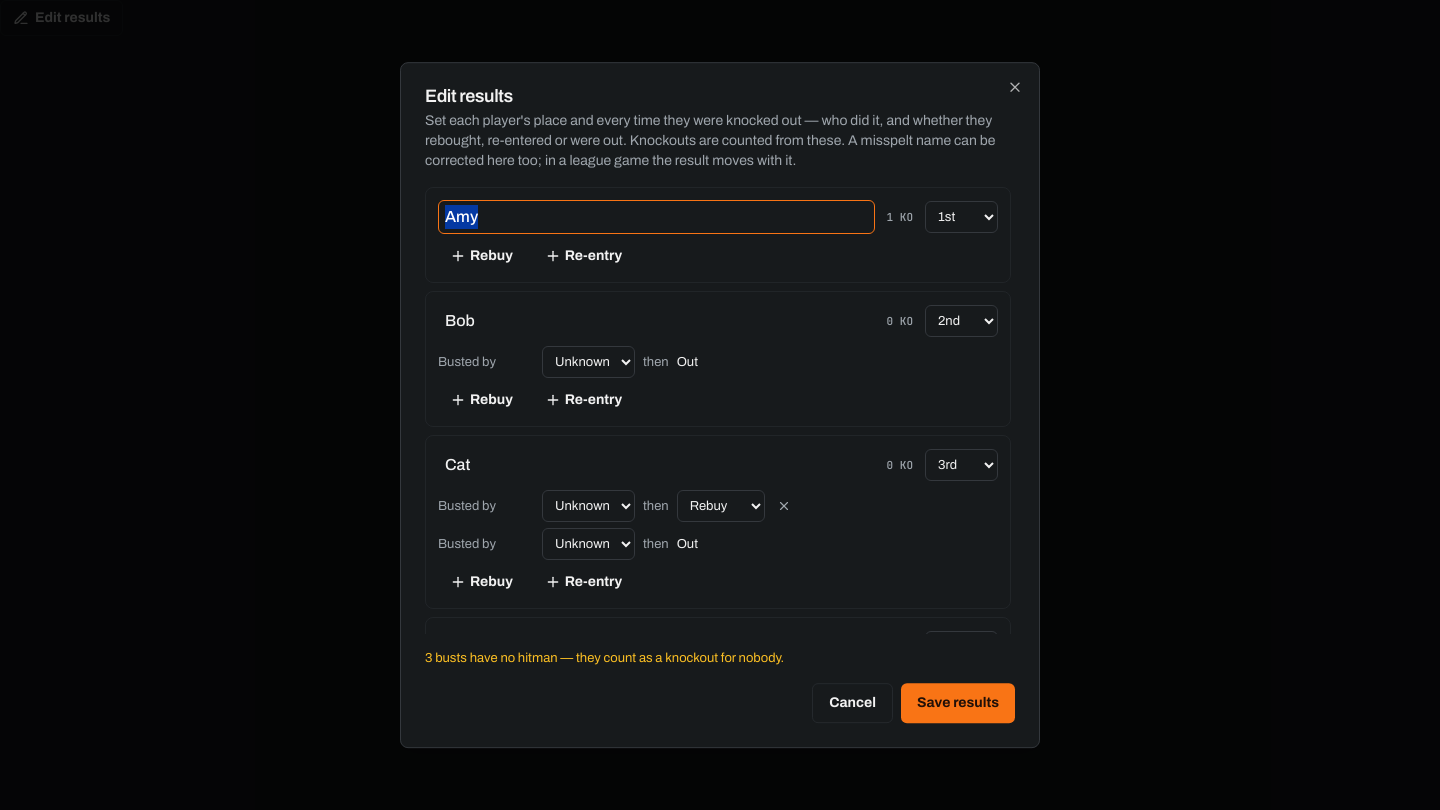
Test case: the results editor › will not save two players in one place, and saves the night once it is right
The image size is (1440, 810).
Earlier steps of the test are not shown.
Later steps or results of the test are not shown.
Step 1. Select "Bob" in the dropdown named "Cat bust 1 hitman" → (588,506), box [542, 490, 635, 522]
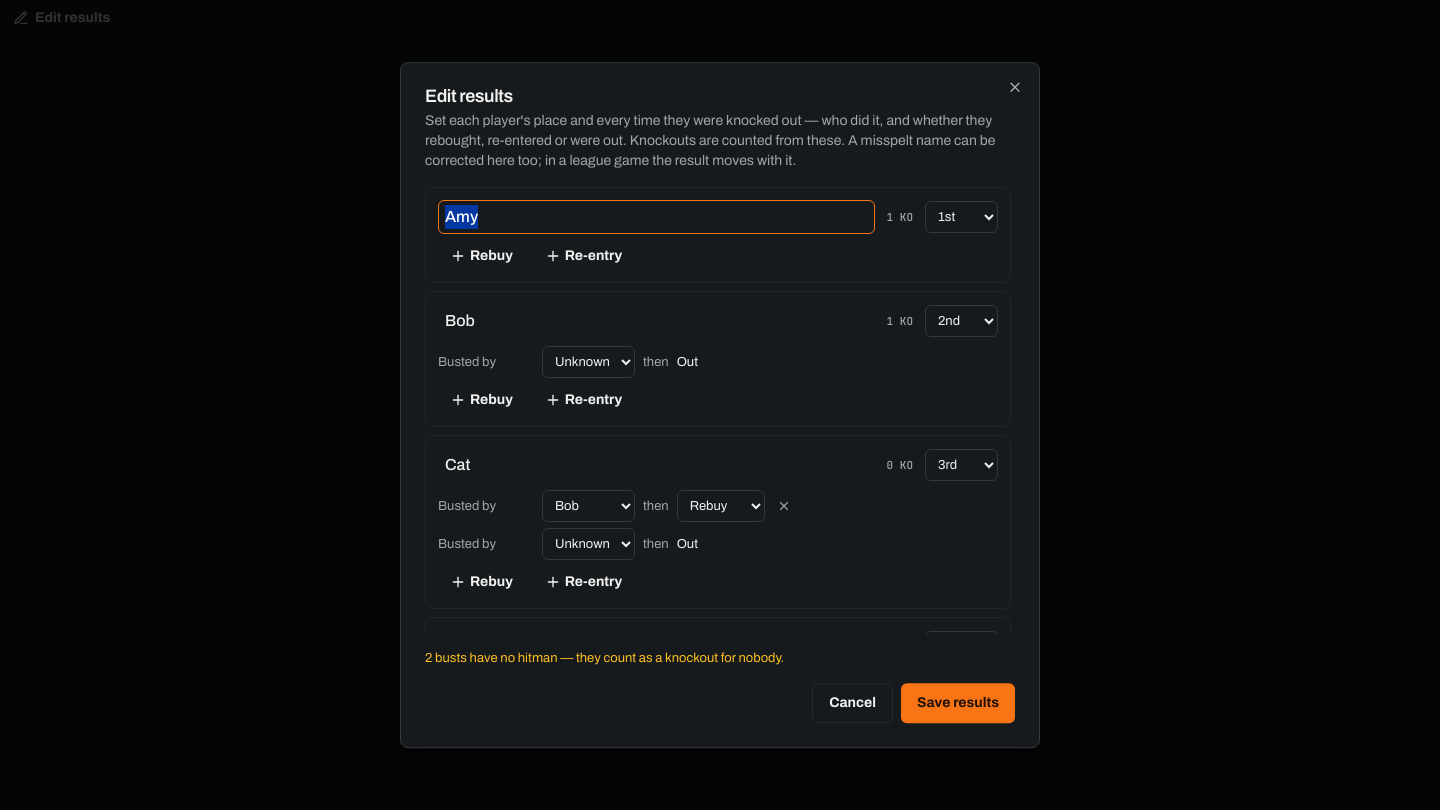
Step 2. Select "Bob" in the dropdown named "Cat bust 2 hitman" → (588,544), box [542, 528, 635, 560]
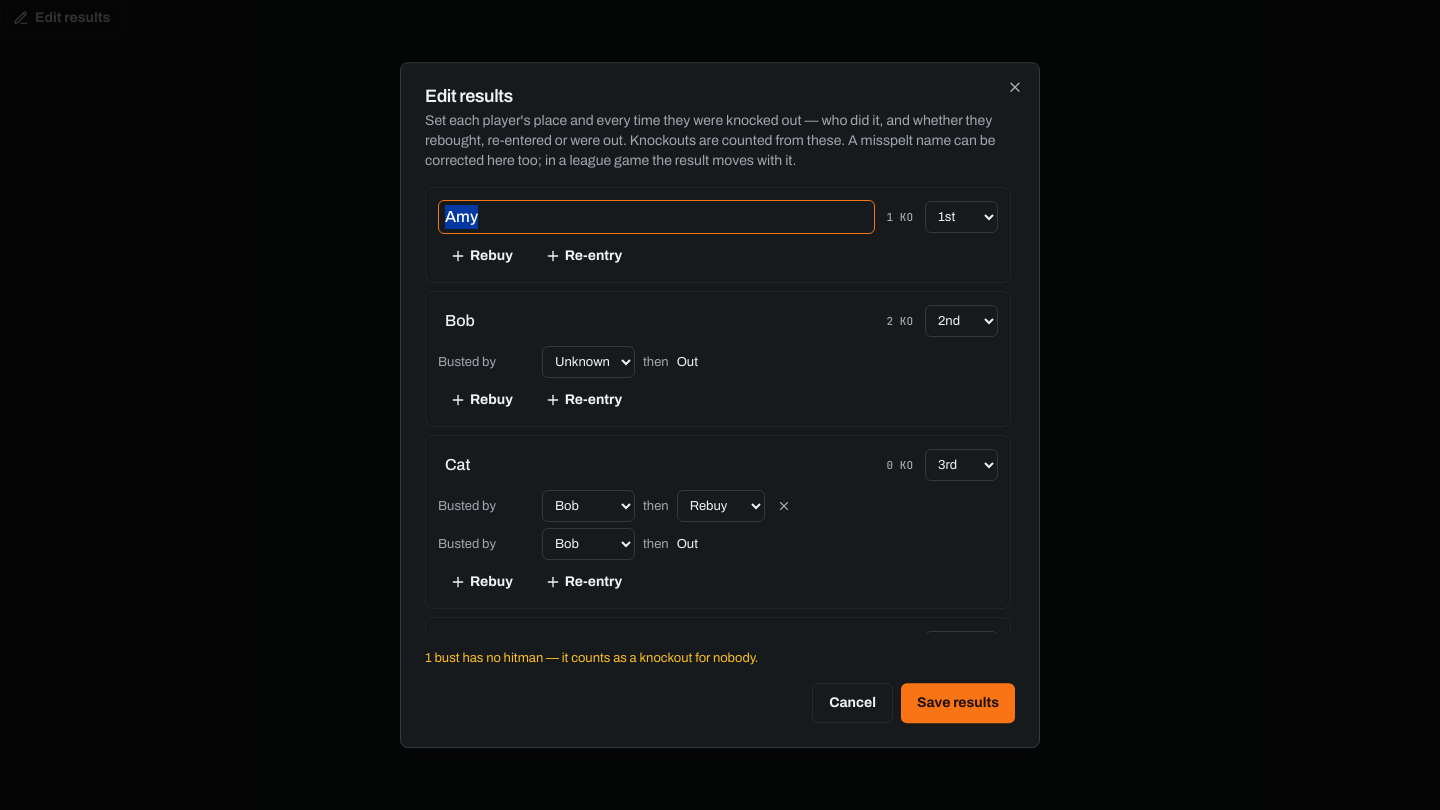
Step 3. Select "Amy" in the dropdown named "Bob bust 1 hitman" → (588,362), box [542, 346, 635, 378]
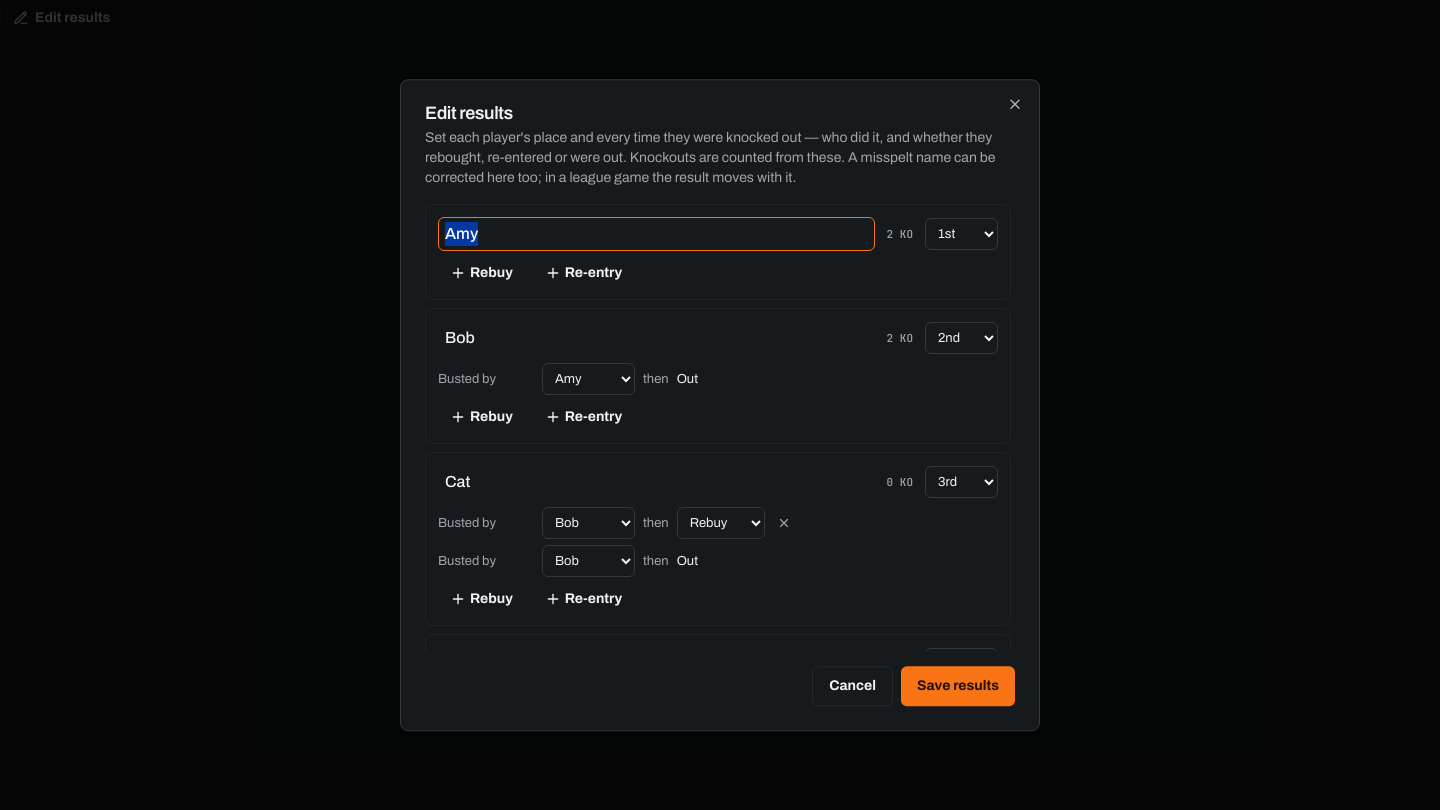
Expected: the button "Save results" is enabled, [901, 666, 1015, 706]
Expected: the 2nd text "2 KO" is shown, [887, 331, 913, 346]
